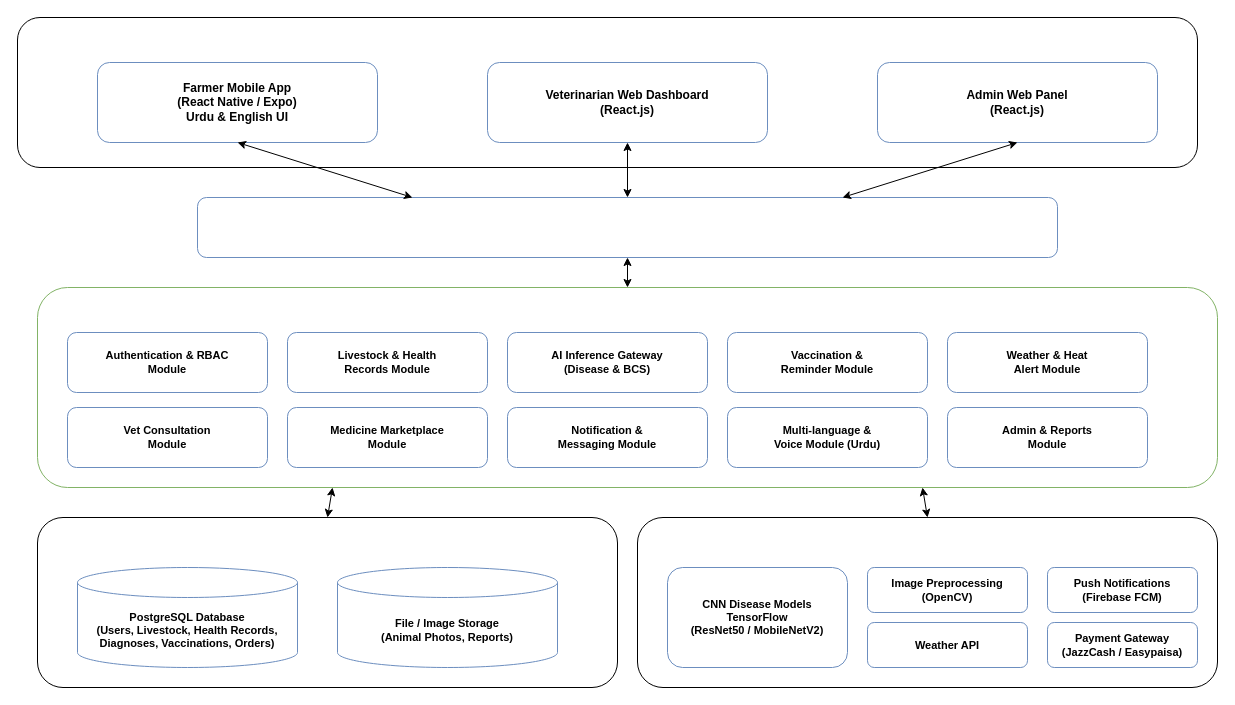
Image size: 1235x705. Some labels were removed from this diagram. Each missing label, with the box of its shape:
AI Models & External Services: (636, 516, 1218, 688)
Business Logic Layer: (36, 286, 1218, 488)
Data Management Layer: (36, 516, 618, 688)
Presentation Layer: (16, 16, 1198, 168)
REST API Gateway (HTTPS / JSON) Authentication · Rate Limiting · Request Routing: (196, 196, 1058, 258)
